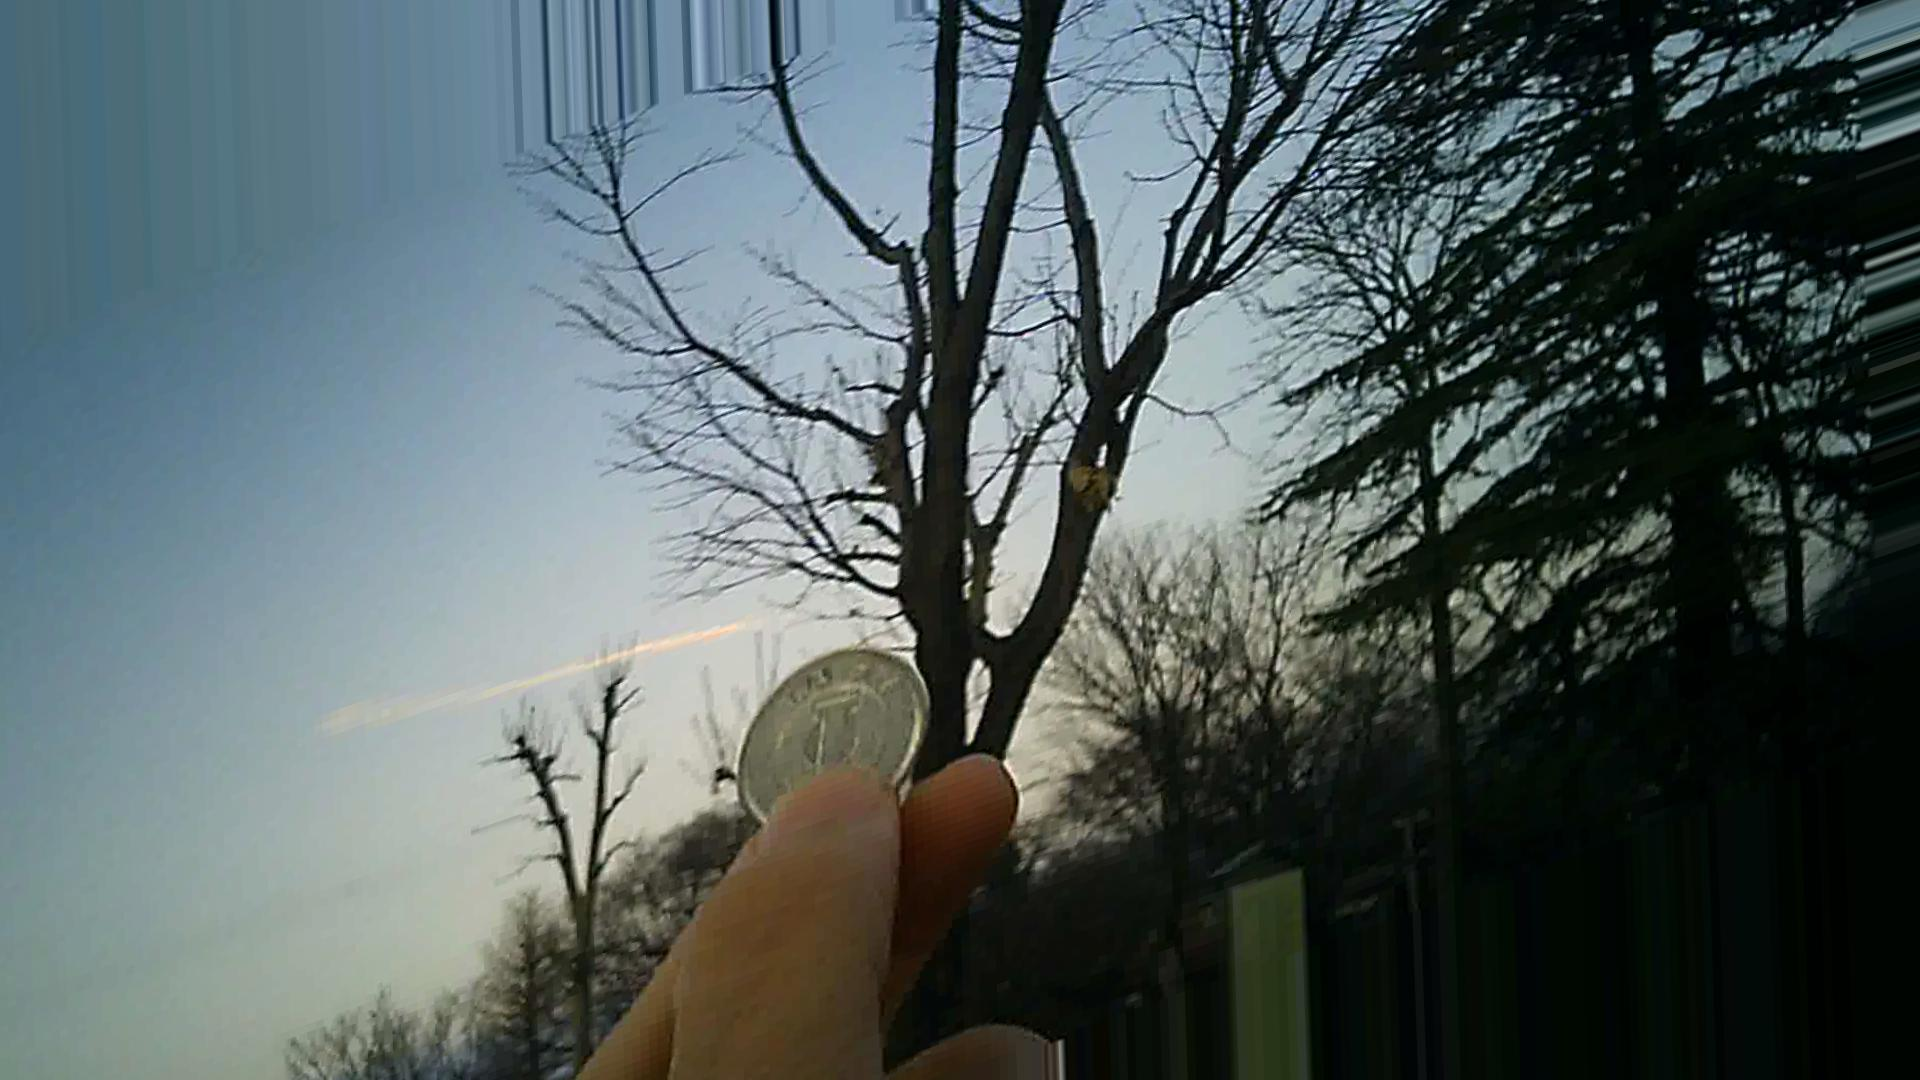1 Yen: (737, 637, 924, 828)
